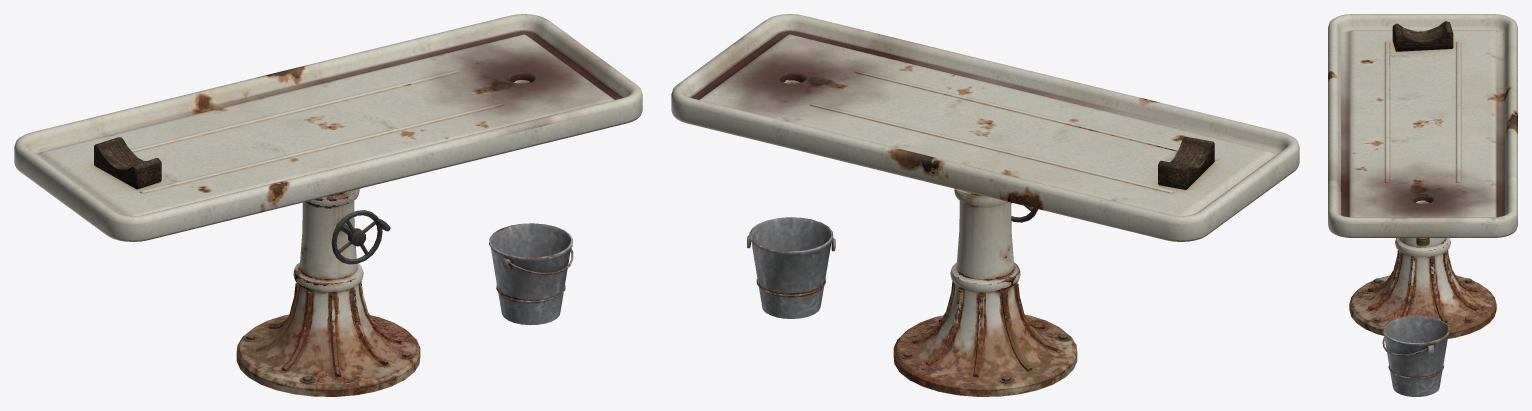
The model's file is prop_morgue_table.glb.
The picture shows the model from 3 angles, left to right: view 1: azimuth 30°, elevation 25°; view 2: azimuth 150°, elevation 25°; view 3: azimuth 270°, elevation 25°; orthographic projection. The views are drawn at different scales.
Parts seen in each view (by area): view 1: Body; view 2: Body; view 3: Body.
Part boxes in pixels (x1,y1,x2,y2): Body: (14, 14, 642, 396); Body: (671, 14, 1299, 396); Body: (1328, 14, 1517, 396).
Bounding box in the file's own units: 2.2 × 1.01 × 0.85.
Materials: 1 (1 with a texture image).
